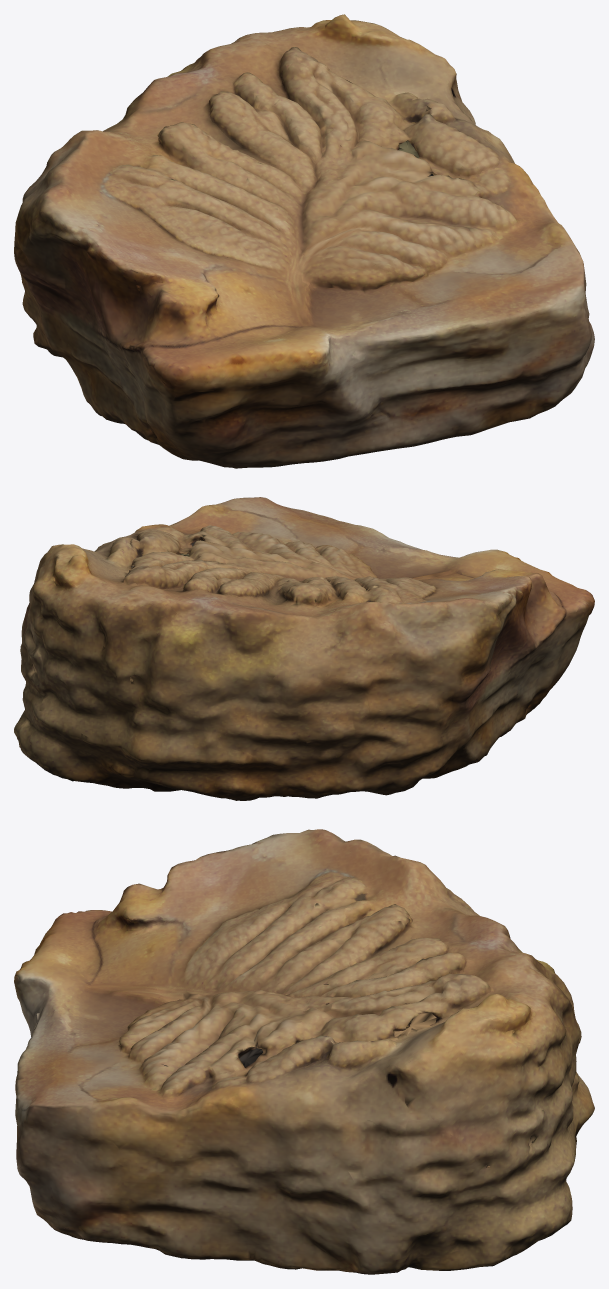
The picture shows the model from 3 angles, top to bottom: view 1: azimuth 30°, elevation 25°; view 2: azimuth 150°, elevation 25°; view 3: azimuth 270°, elevation 25°; orthographic projection. The views are drawn at different scales.
Parts seen in each view (by area): view 1: geometry_0; view 2: geometry_0; view 3: geometry_0.
Boxes of the visible parts, x1=… form: geometry_0: x1=14, y1=14, x2=594, y2=468; geometry_0: x1=14, y1=497, x2=594, y2=800; geometry_0: x1=14, y1=829, x2=594, y2=1274.
Bounding box in the file's own units: 0.14 × 0.0651 × 0.1399.
1 material, 1 textured.
